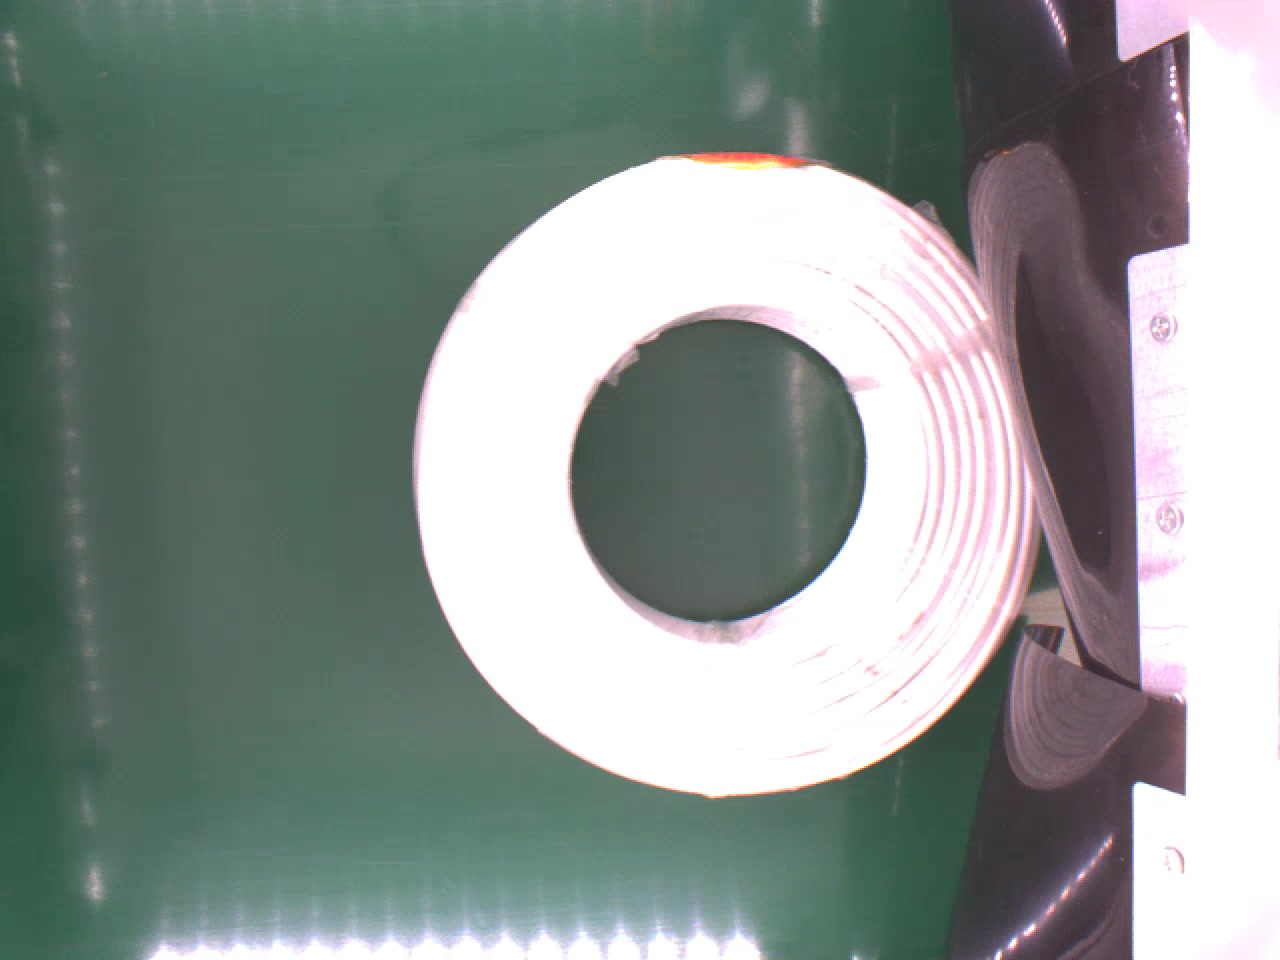white: (410, 146, 1047, 795)
